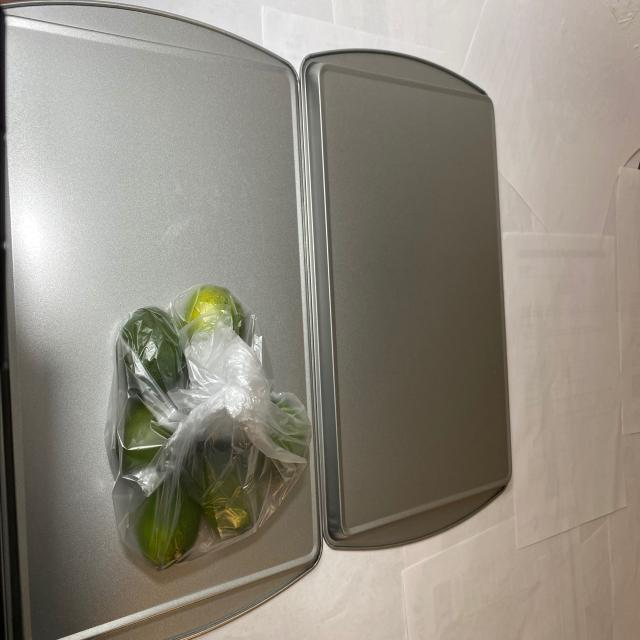lemon: (117, 276, 310, 576)
